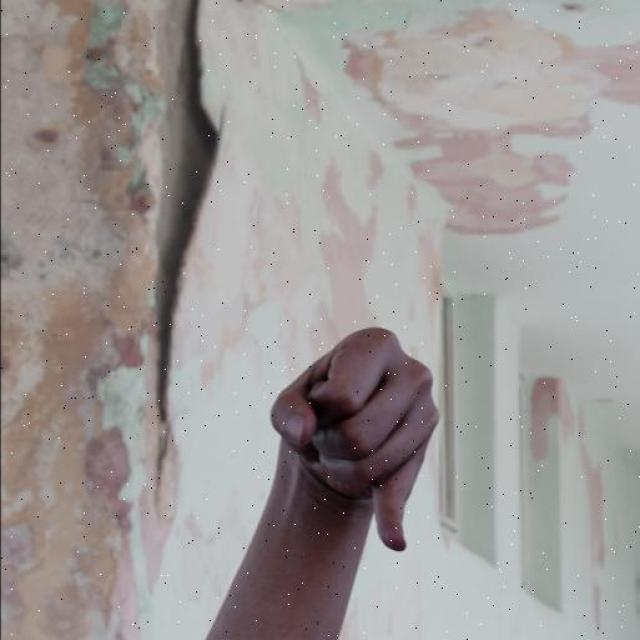J: (268, 324, 441, 555)
